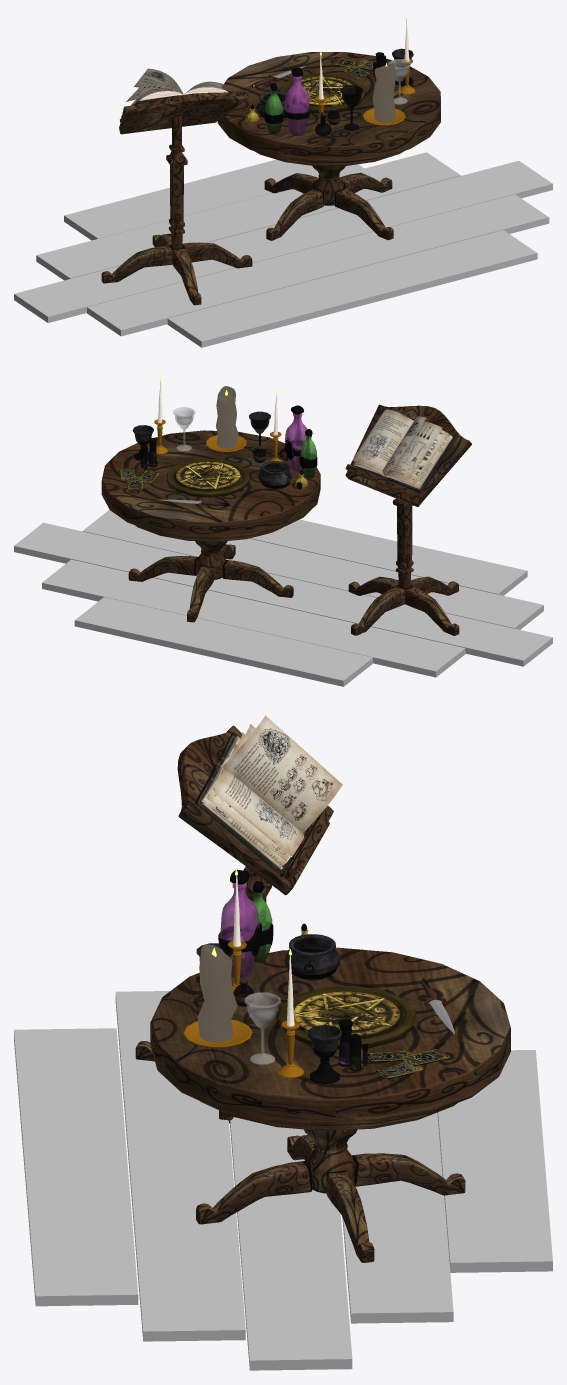
3 renders of one model, top to bottom at view 1: azimuth 30°, elevation 25°; view 2: azimuth 150°, elevation 25°; view 3: azimuth 270°, elevation 25°, orthographic. The views are drawn at different scales.
Visible parts, largest first — view 1: Flipping_Cauldron:Wood_Planks6, Flipping_Cauldron:Wood_Planks4, Flipping_Cauldron:Wood_Planks5, polySurface9, Flipping_Cauldron:Wood_Planks3, Flipping_Cauldron:Wood_Planks2, ALTAR_TABLE, polySurface5, polySurface6, Interior_Stage_0005:Altar1:Pentagram_Block_TEXTURE_Interior_, Interior_Stage_0005:Altar1:Large_Potion_1, polySurface14 (+8 smaller); view 2: Flipping_Cauldron:Wood_Planks4, polySurface9, Flipping_Cauldron:Wood_Planks3, Flipping_Cauldron:Wood_Planks2, Flipping_Cauldron:Wood_Planks6, Flipping_Cauldron:Wood_Planks5, ALTAR_TABLE, polySurface5, Interior_Stage_0005:Altar1:Pentagram_Block_TEXTURE_Interior_, Interior_Stage_0005:pPlane3_Interior_Stage_0005:book_on_stan, polySurface6, Interior_Stage_0005:pPlane5_Interior_Stage_0005:book_on_stan (+15 smaller); view 3: polySurface9, Flipping_Cauldron:Wood_Planks5, Flipping_Cauldron:Wood_Planks6, Flipping_Cauldron:Wood_Planks4, Flipping_Cauldron:Wood_Planks2, Flipping_Cauldron:Wood_Planks3, ALTAR_TABLE, Interior_Stage_0005:pPlane1_Interior_Stage_0005:book_on_stan, polySurface5, Interior_Stage_0005:Altar1:Pentagram_Block_TEXTURE_Interior_, Interior_Stage_0005:Altar1:Thick_Candle_TEXTURE_Interior_Sta, Interior_Stage_0005:pPlane3_Interior_Stage_0005:book_on_stan (+9 smaller).
Boxes of the visible parts, x1,y1,x2,y2 form: Flipping_Cauldron:Wood_Planks6: [87, 194, 549, 336]; Flipping_Cauldron:Wood_Planks4: [14, 160, 552, 322]; Flipping_Cauldron:Wood_Planks5: [167, 230, 537, 347]; polySurface9: [217, 52, 440, 162]; Flipping_Cauldron:Wood_Planks3: [36, 152, 460, 280]; Flipping_Cauldron:Wood_Planks2: [64, 159, 364, 240]; ALTAR_TABLE: [254, 151, 403, 240]; polySurface5: [119, 91, 248, 134]; polySurface6: [166, 116, 187, 248]; Interior_Stage_0005:Altar1:Pentagram_Block_TEXTURE_Interior_: [278, 73, 365, 112]; Interior_Stage_0005:Altar1:Large_Potion_1: [283, 67, 309, 135]; polySurface14: [101, 245, 173, 283]; Flipping_Cauldron:Wood_Planks4: [14, 522, 552, 666]; polySurface9: [101, 430, 320, 538]; Flipping_Cauldron:Wood_Planks3: [42, 559, 465, 677]; Flipping_Cauldron:Wood_Planks2: [74, 597, 372, 686]; Flipping_Cauldron:Wood_Planks6: [82, 510, 543, 629]; Flipping_Cauldron:Wood_Planks5: [249, 519, 527, 595]; ALTAR_TABLE: [128, 525, 293, 622]; polySurface5: [345, 404, 471, 506]; Interior_Stage_0005:Altar1:Pentagram_Block_TEXTURE_Interior_: [166, 458, 249, 497]; Interior_Stage_0005:pPlane3_Interior_Stage_0005:book_on_stan: [352, 409, 413, 475]; polySurface6: [392, 498, 413, 588]; Interior_Stage_0005:pPlane5_Interior_Stage_0005:book_on_stan: [386, 421, 442, 479]; polySurface9: [150, 947, 510, 1126]; Flipping_Cauldron:Wood_Planks5: [14, 1028, 138, 1306]; Flipping_Cauldron:Wood_Planks6: [115, 991, 245, 1341]; Flipping_Cauldron:Wood_Planks4: [230, 1117, 352, 1370]; Flipping_Cauldron:Wood_Planks2: [437, 1050, 552, 1272]; Flipping_Cauldron:Wood_Planks3: [342, 1112, 453, 1323]; ALTAR_TABLE: [196, 1101, 465, 1262]; Interior_Stage_0005:pPlane1_Interior_Stage_0005:book_on_stan: [223, 715, 342, 832]; polySurface5: [177, 725, 333, 895]; Interior_Stage_0005:Altar1:Pentagram_Block_TEXTURE_Interior_: [277, 986, 416, 1049]; Interior_Stage_0005:Altar1:Thick_Candle_TEXTURE_Interior_Sta: [197, 944, 237, 1042]; Interior_Stage_0005:pPlane3_Interior_Stage_0005:book_on_stan: [211, 767, 304, 856].
Size of the model in its own units: 3.52 by 1.4 by 1.99.
